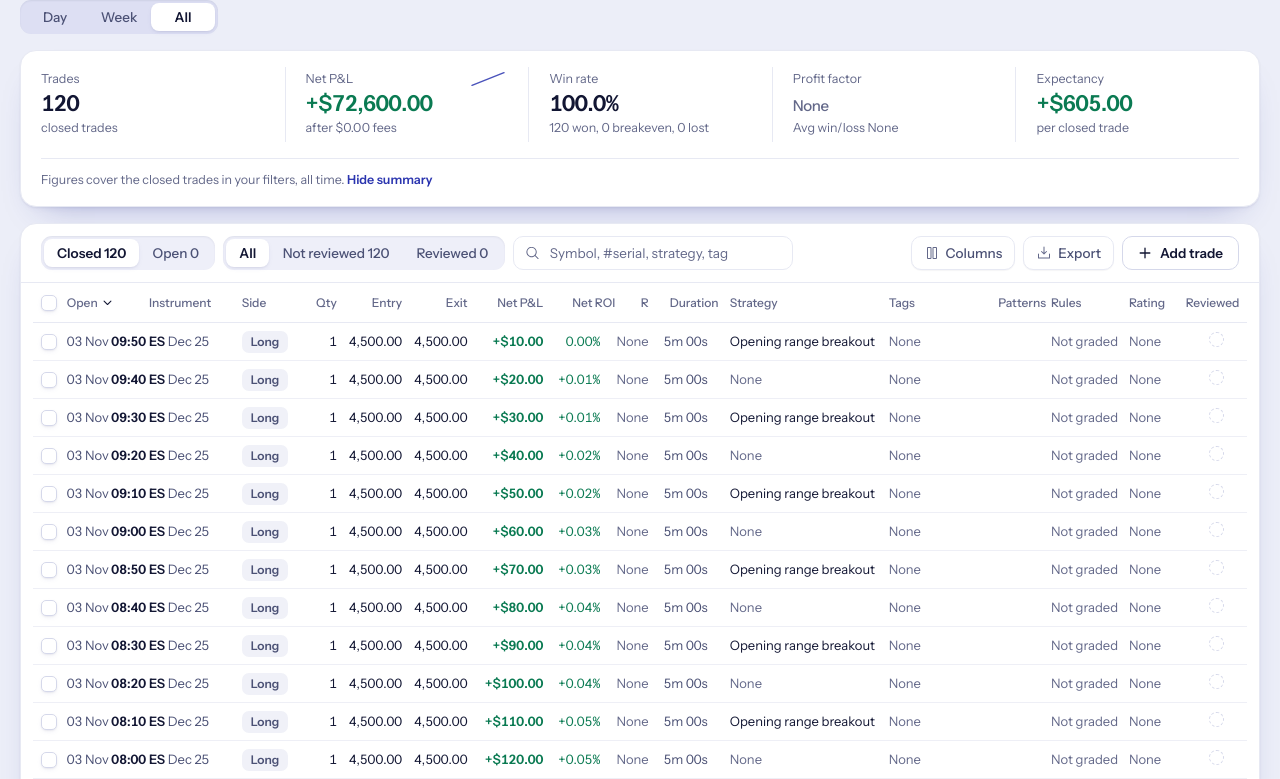
Test: Hide summary saves the preference and leaves a way back
Check: the element named "Summary" is shown, box [20,50,1260,207]
Click the button "Hide summary": {"x": 390, "y": 180} [347,167,433,194]
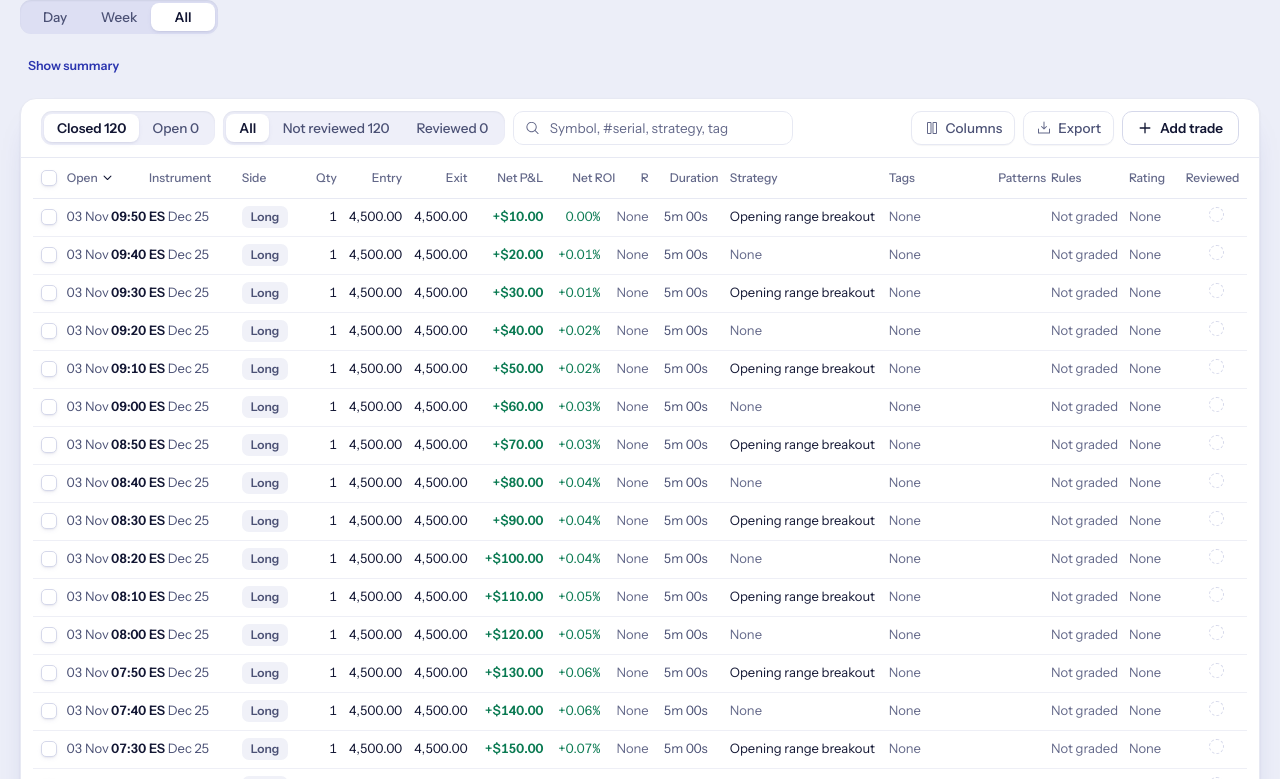
Click the button "Show summary": {"x": 74, "y": 66} [20,50,127,82]
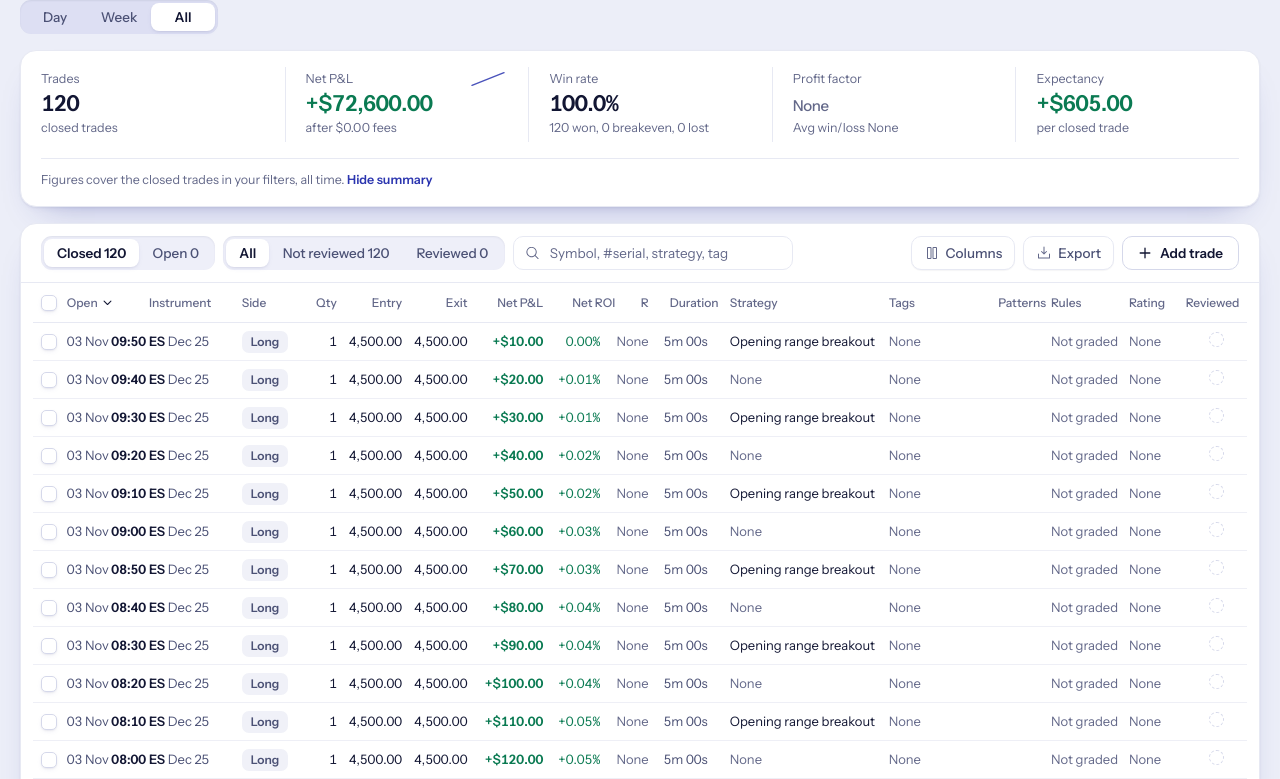
Check: the element named "Summary" is shown, box [20,50,1260,207]
